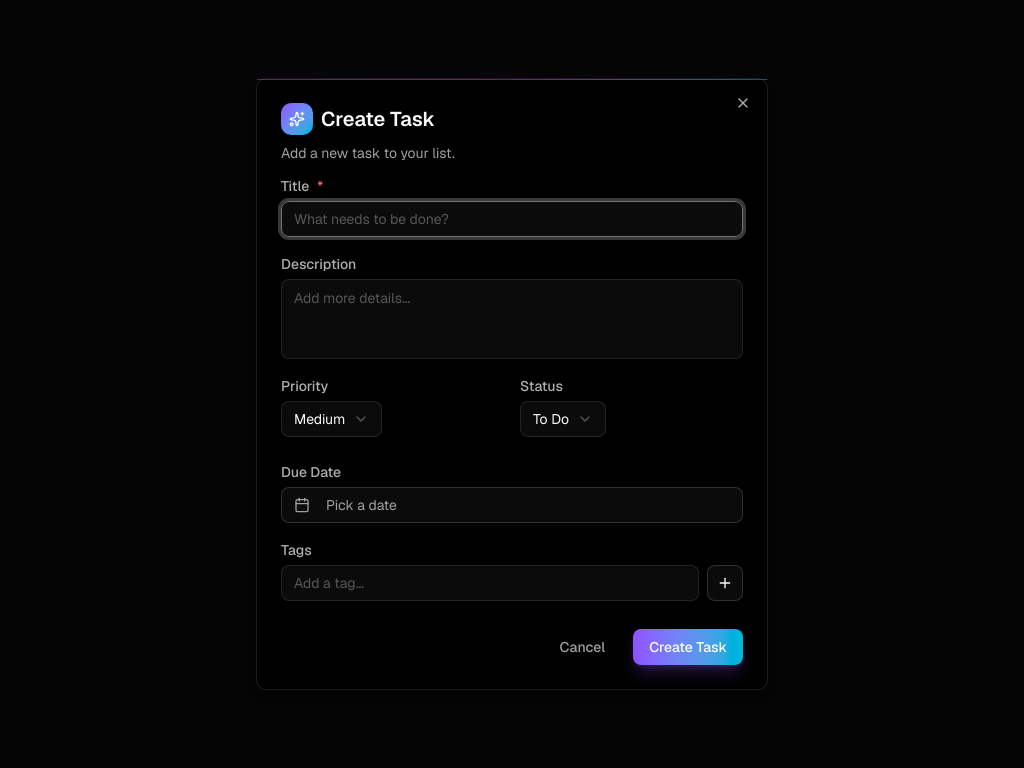
Test: TaskForm › User Interactions › Tag Management › removes a tag when clicking the X button
The image size is (1024, 768).
Add a tag first
Type "removeme" into the field with placeholder "Add a tag...". click: (490, 583)
box: [281,565,699,601]
Then press Enter
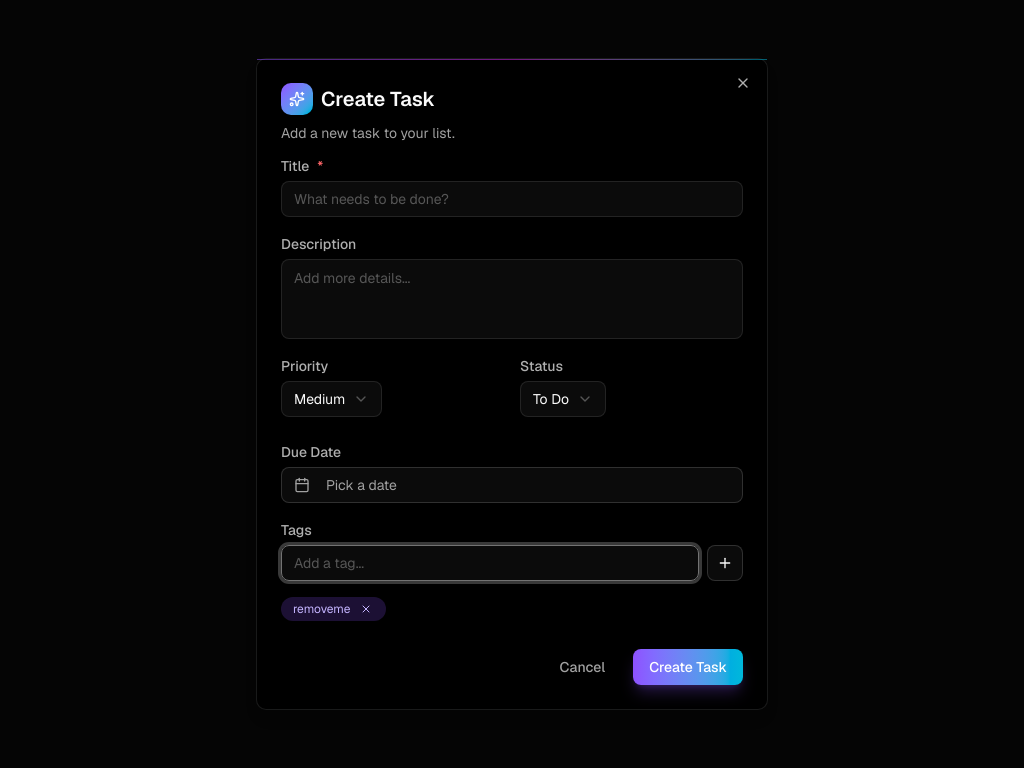
Now the text "removeme" is shown, box [281,597,386,621]
Now the button without text next to "removeme" is shown
Click the button without text next to "removeme". click: (366, 609)
box: [358,601,374,617]
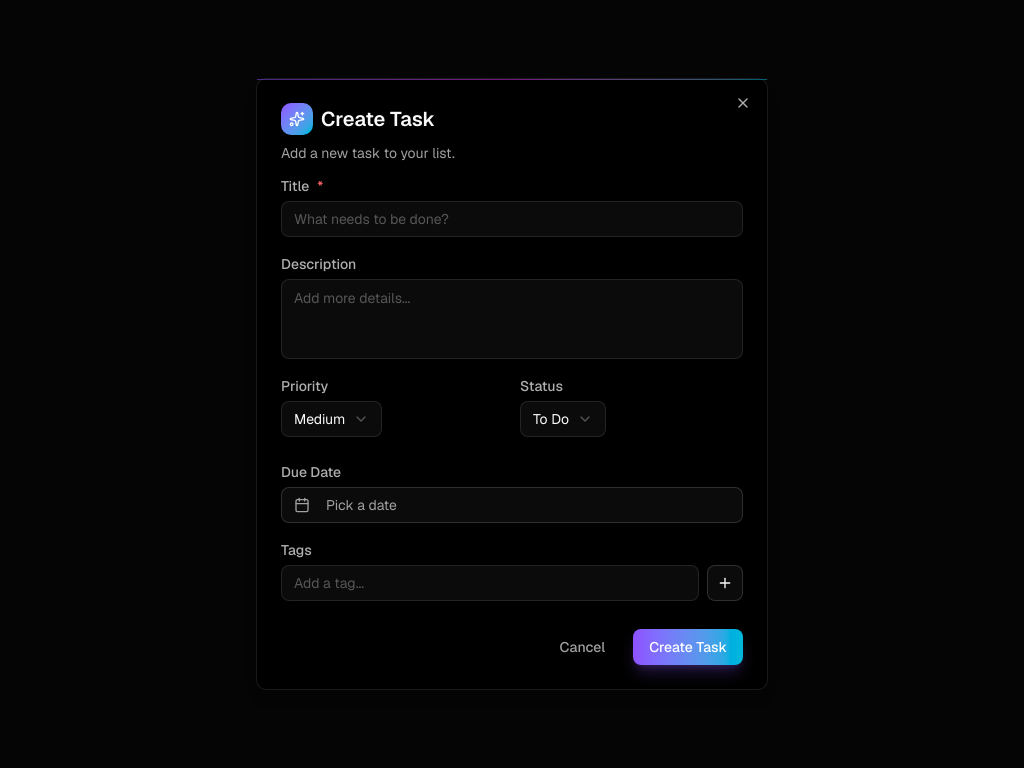
Now the text "removeme" is gone
